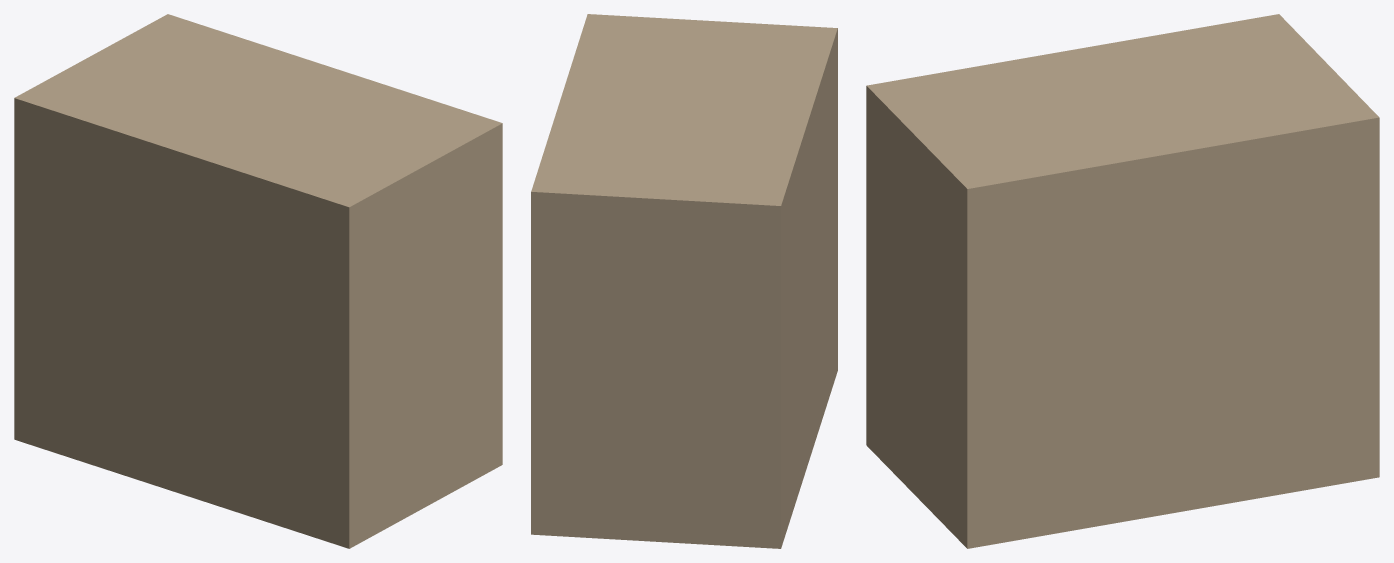
Rendered from bld_106796583.dae.
3 renders of one model, left to right at view 1: azimuth 30°, elevation 25°; view 2: azimuth 150°, elevation 25°; view 3: azimuth 270°, elevation 25°, orthographic. The views are drawn at different scales.
Parts seen in each view (by area): view 1: bld_106796583; view 2: bld_106796583; view 3: bld_106796583.
Boxes of the visible parts, left/top/right/bottom form: bld_106796583: left=14, top=14, right=502, bottom=548; bld_106796583: left=531, top=14, right=837, bottom=548; bld_106796583: left=866, top=14, right=1379, bottom=548.
Size of the model in its own units: 8.35 by 10.34 by 8.
